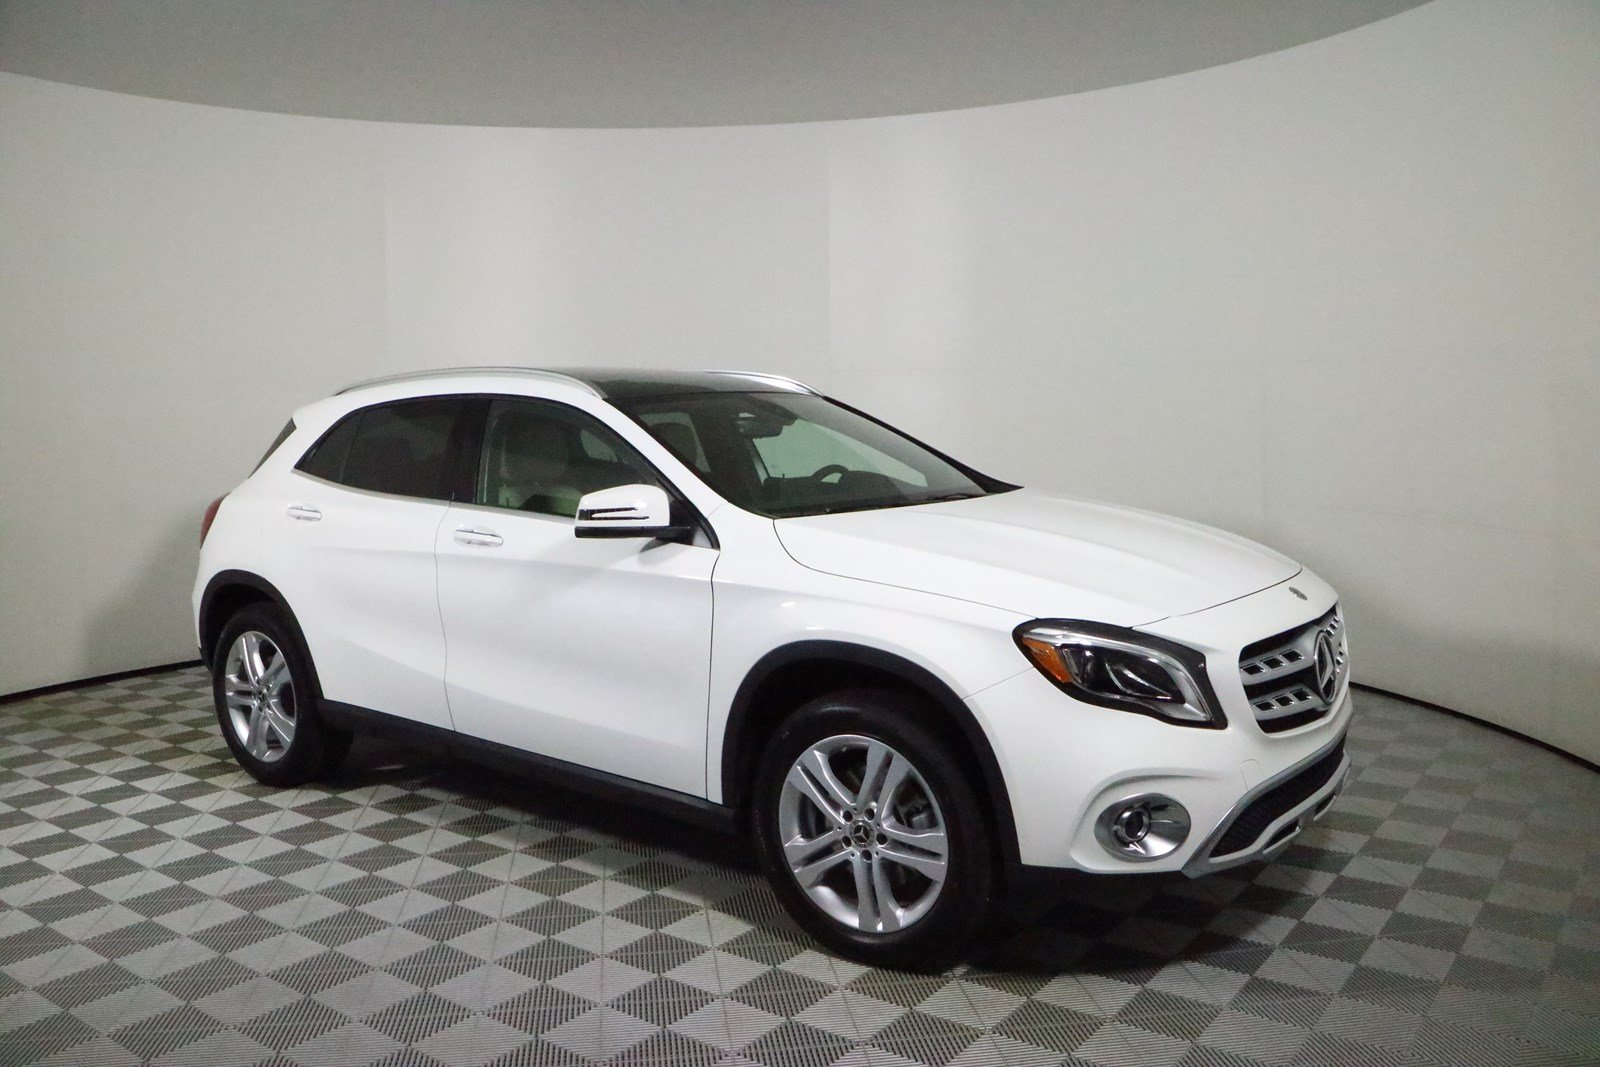gla: (170, 341, 1407, 1019)
